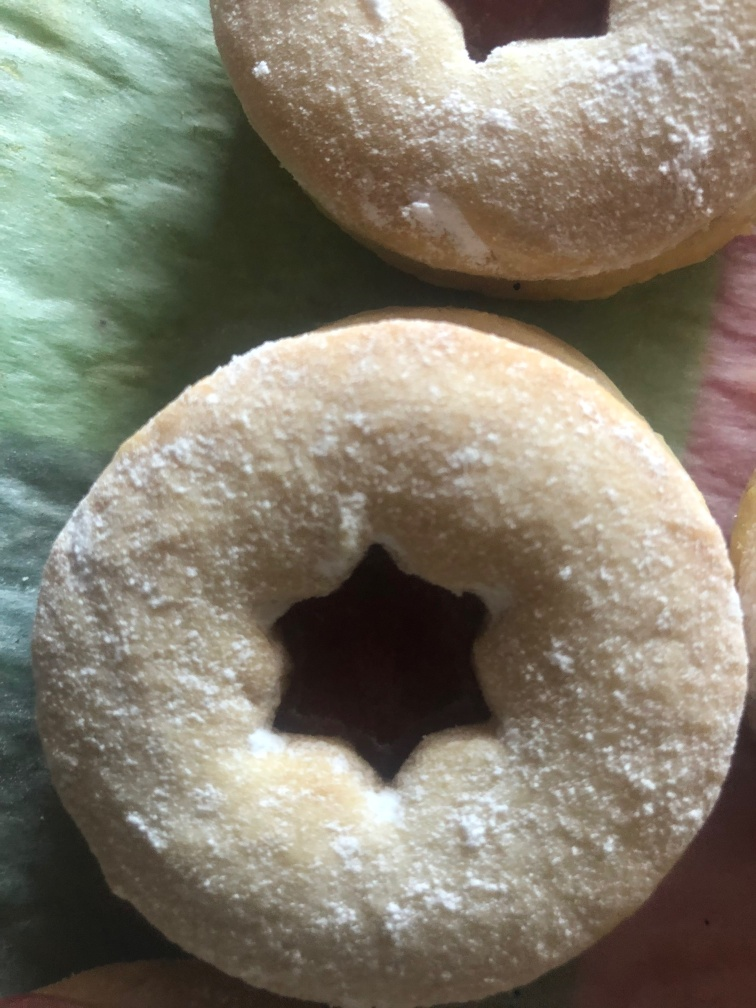christmas shortbread with jam: (17, 300, 743, 1003), (202, 1, 756, 295)
